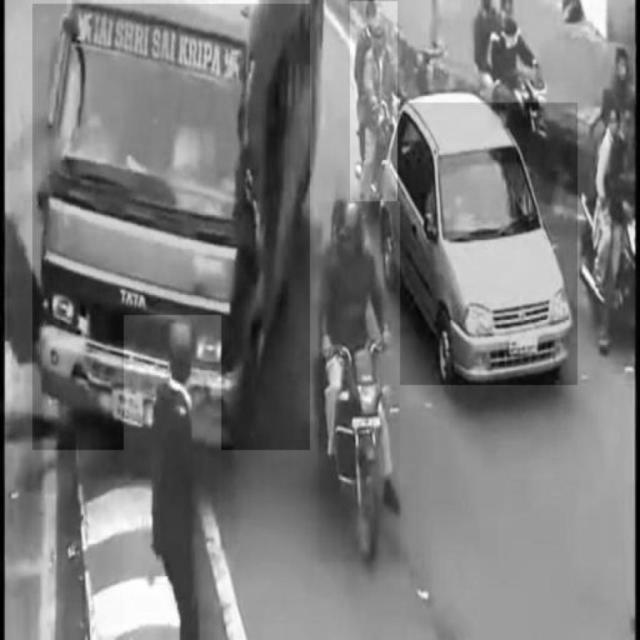accident: (33, 4, 311, 450)
person: (124, 315, 222, 632)
vehicle: (379, 103, 577, 385), (319, 202, 400, 563), (351, 2, 398, 208)
